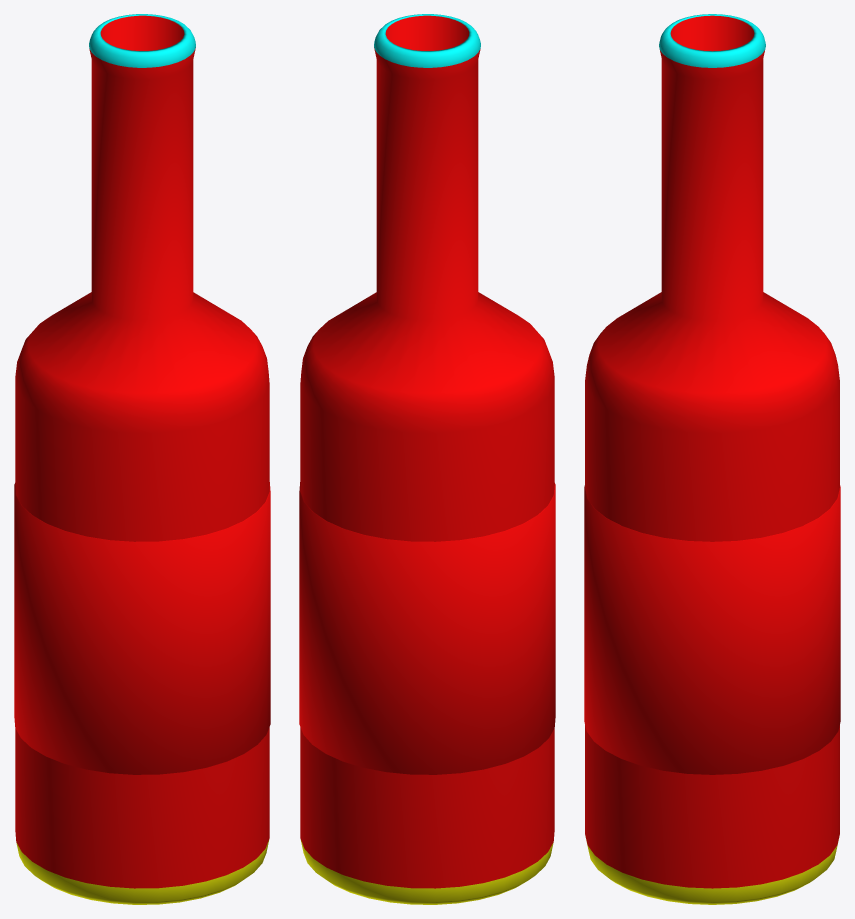
Rendered from bottle.fbx.
3 views of the same model, side by side, from view 1: azimuth 30°, elevation 25°; view 2: azimuth 150°, elevation 25°; view 3: azimuth 270°, elevation 25° (orthographic).
Visible parts, largest first — view 1: Cylinder; view 2: Cylinder; view 3: Cylinder.
Boxes of the visible parts, bbox=[...] form: Cylinder: bbox=[14, 14, 270, 904]; Cylinder: bbox=[299, 14, 555, 904]; Cylinder: bbox=[584, 14, 840, 904].
Size of the model in its own units: 9.61 by 33.98 by 9.61.
